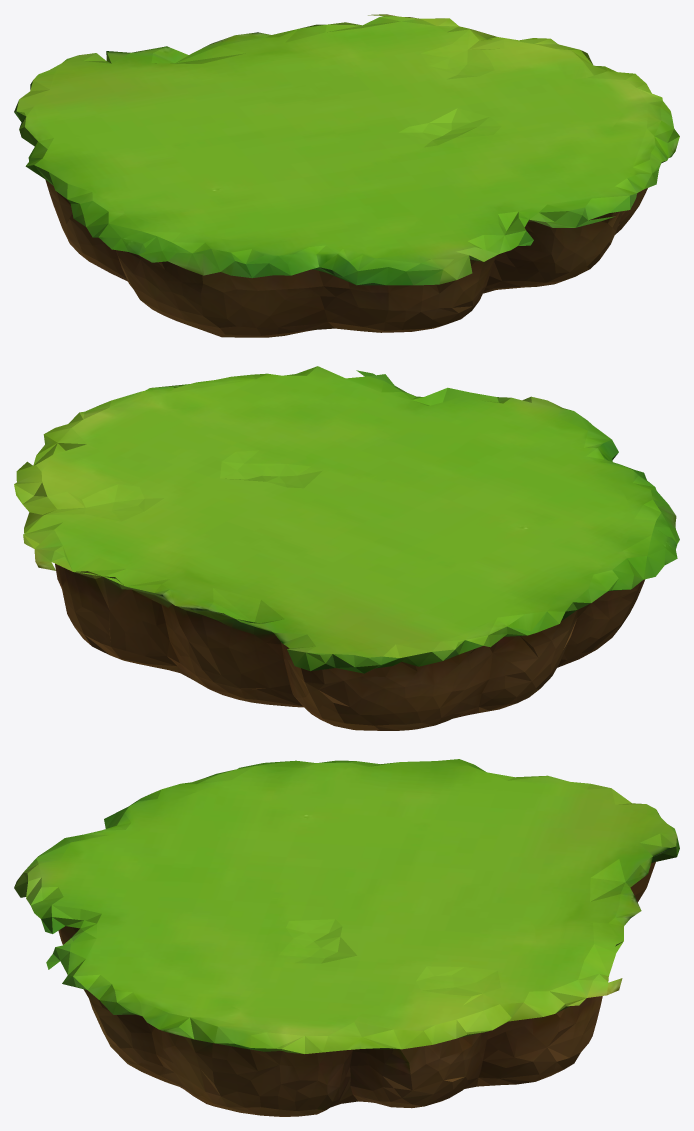
File: space_grassy-.glb
The picture shows the model from 3 angles, top to bottom: view 1: azimuth 30°, elevation 25°; view 2: azimuth 150°, elevation 25°; view 3: azimuth 270°, elevation 25°; orthographic projection. The views are drawn at different scales.
Visible parts, largest first — view 1: world.001; view 2: world.001; view 3: world.001.
Part boxes in pixels (bbox=[...]): world.001: bbox=[14, 14, 679, 337]; world.001: bbox=[14, 366, 679, 730]; world.001: bbox=[14, 759, 679, 1116].
Size of the model in its own units: 0.9899 by 0.2024 by 0.9449.
Materials: 1 (1 with a texture image).
